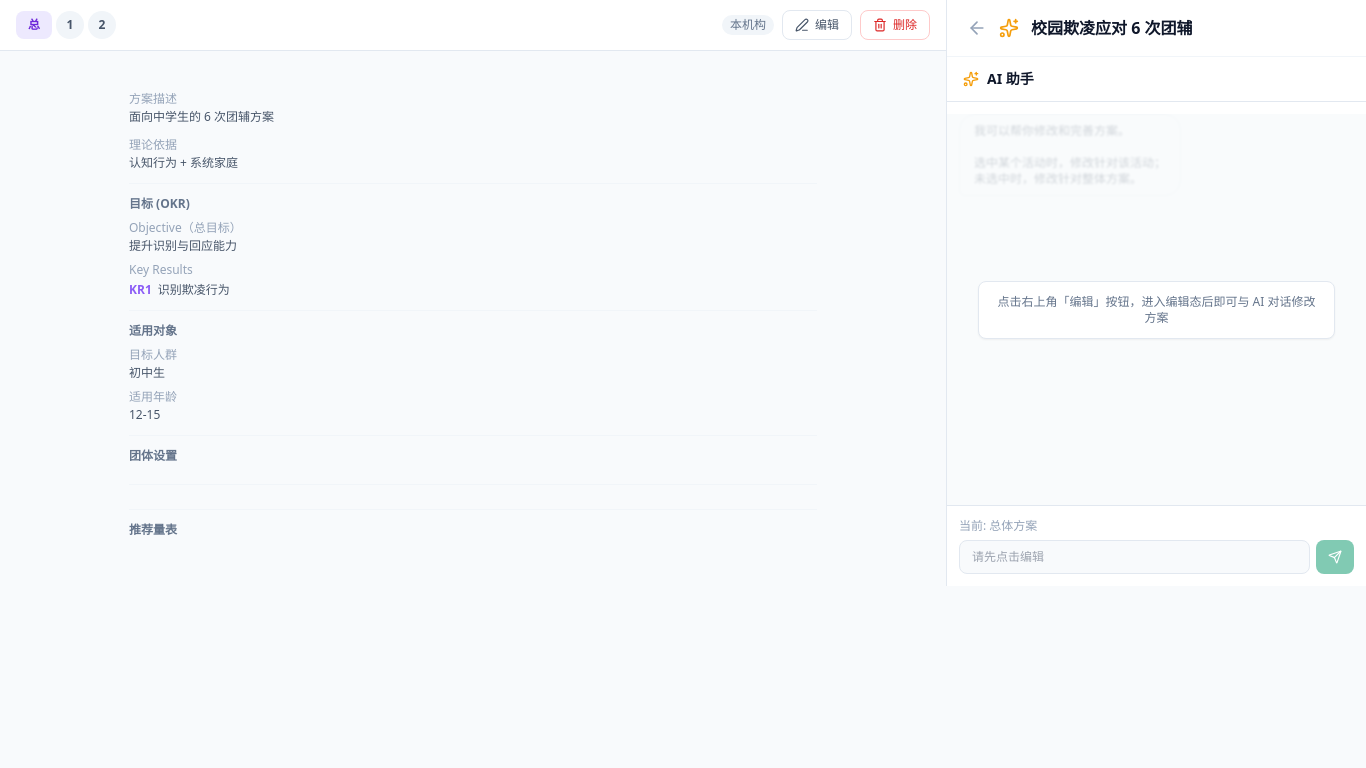
SchemeDetail — pre-split characterization › clicking 编辑 swaps to 保存 + 取消
This screenshot has width=1366, height=768.
Click the button "编辑".
click(817, 25)  # box x1=782 y1=10 x2=852 y2=40
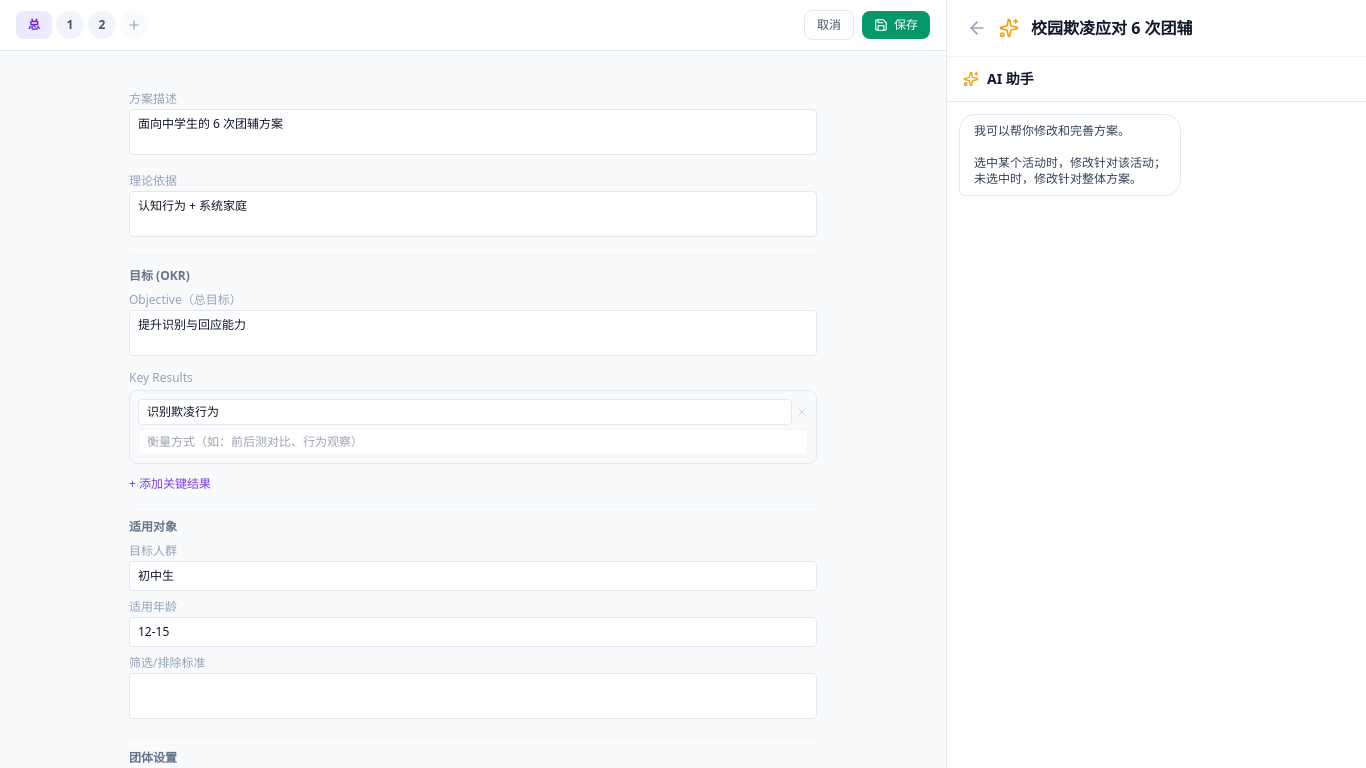
Expected: the button "保存" is shown, x1=862 y1=11 x2=930 y2=39
Expected: the button "取消" is shown, x1=804 y1=10 x2=854 y2=40
Expected: the button "编辑" is gone
